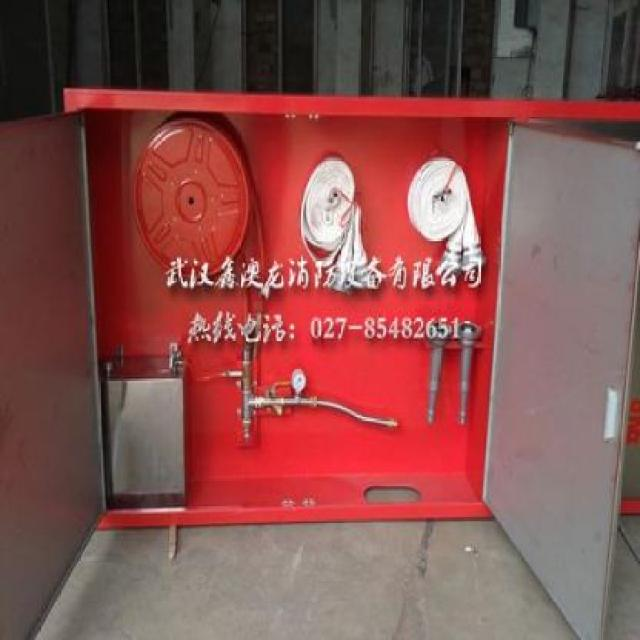firehydrant: (3, 77, 640, 640)
